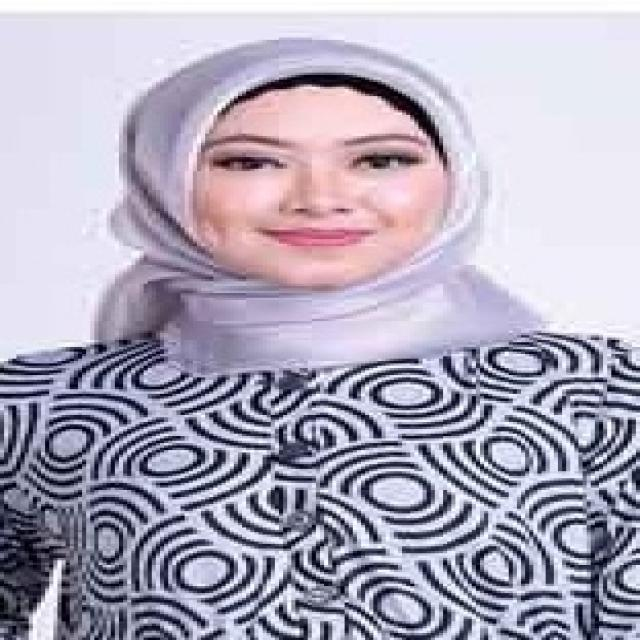head: (115, 40, 497, 295)
